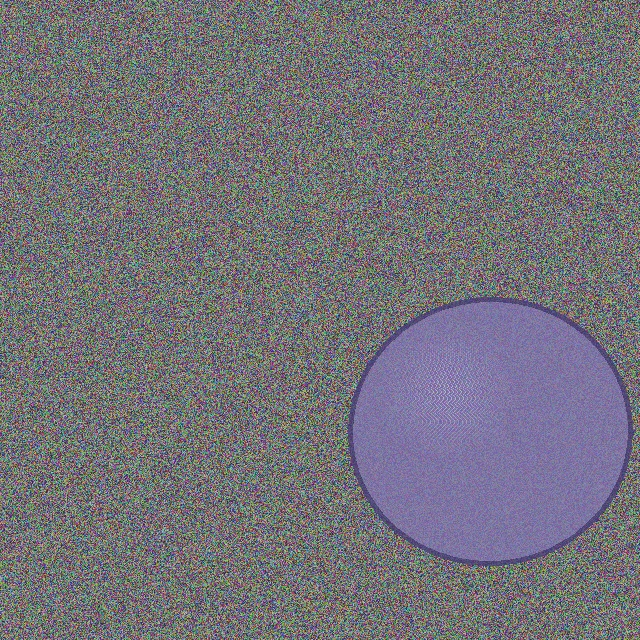lens: (350, 299, 630, 563)
